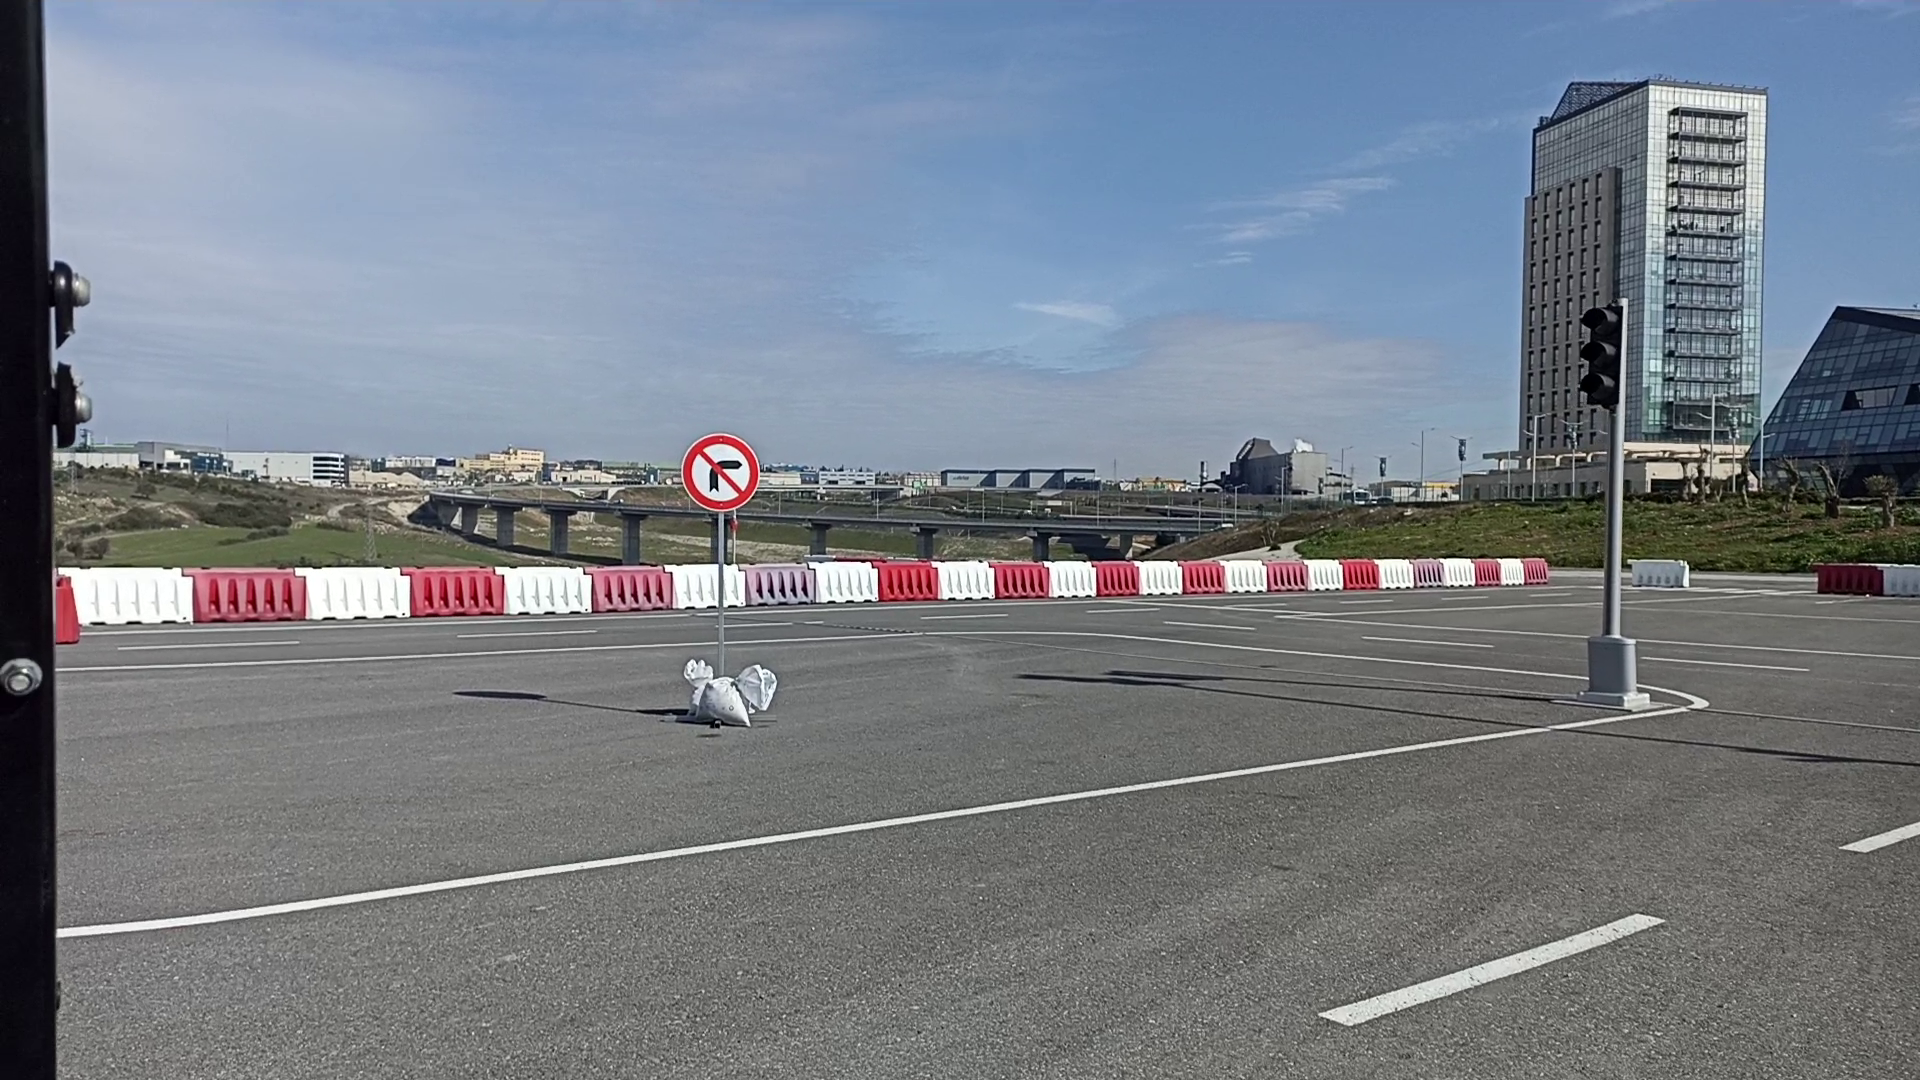noleftturn: (679, 431, 764, 516)
trafficlight: (1576, 299, 1625, 413)
